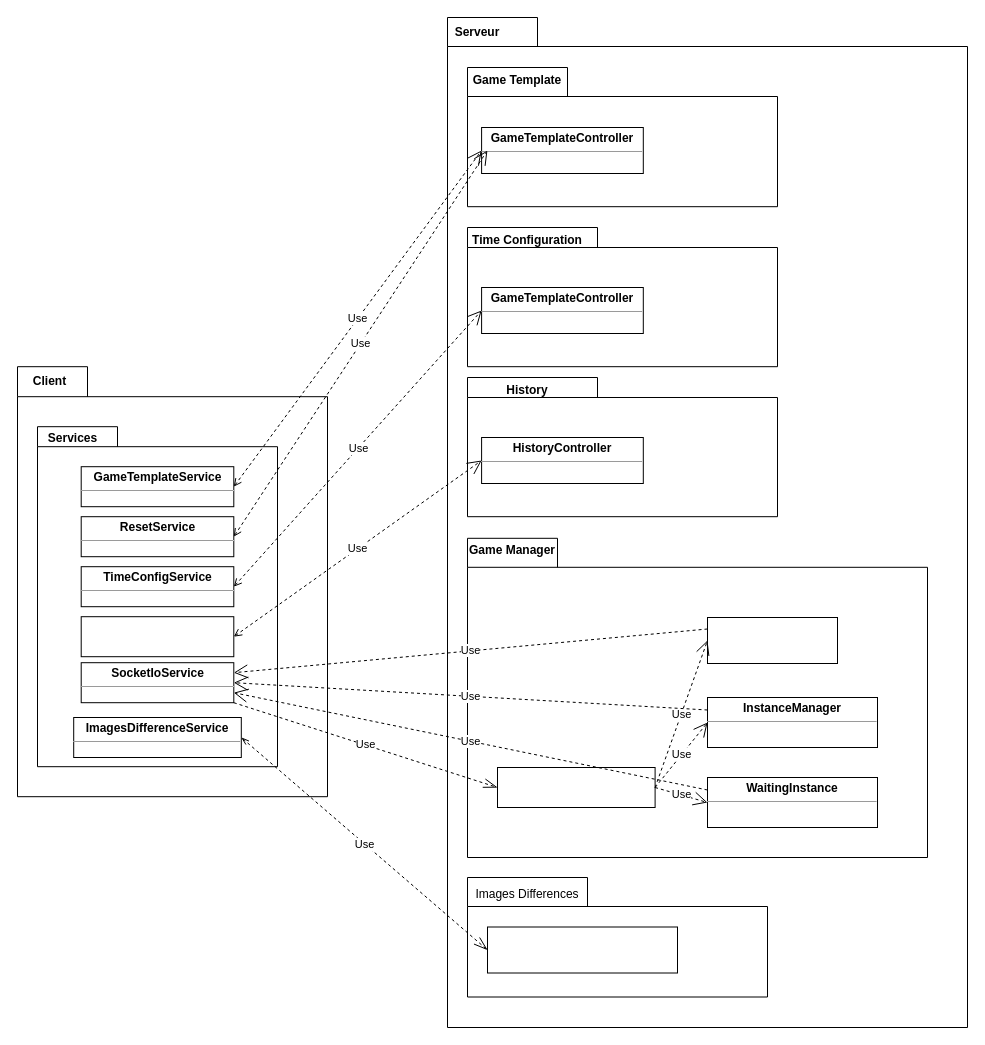
The diagram is 985 pixels wide and 1045 high, and some of its shapes have lost their labels. Each missing label, with the centre of its shape:
GameManagerGateway: point 575,787
GameManagerService: point 772,640
HistoryService: point 157,636
ImagesDifferencesController: point 582,949
